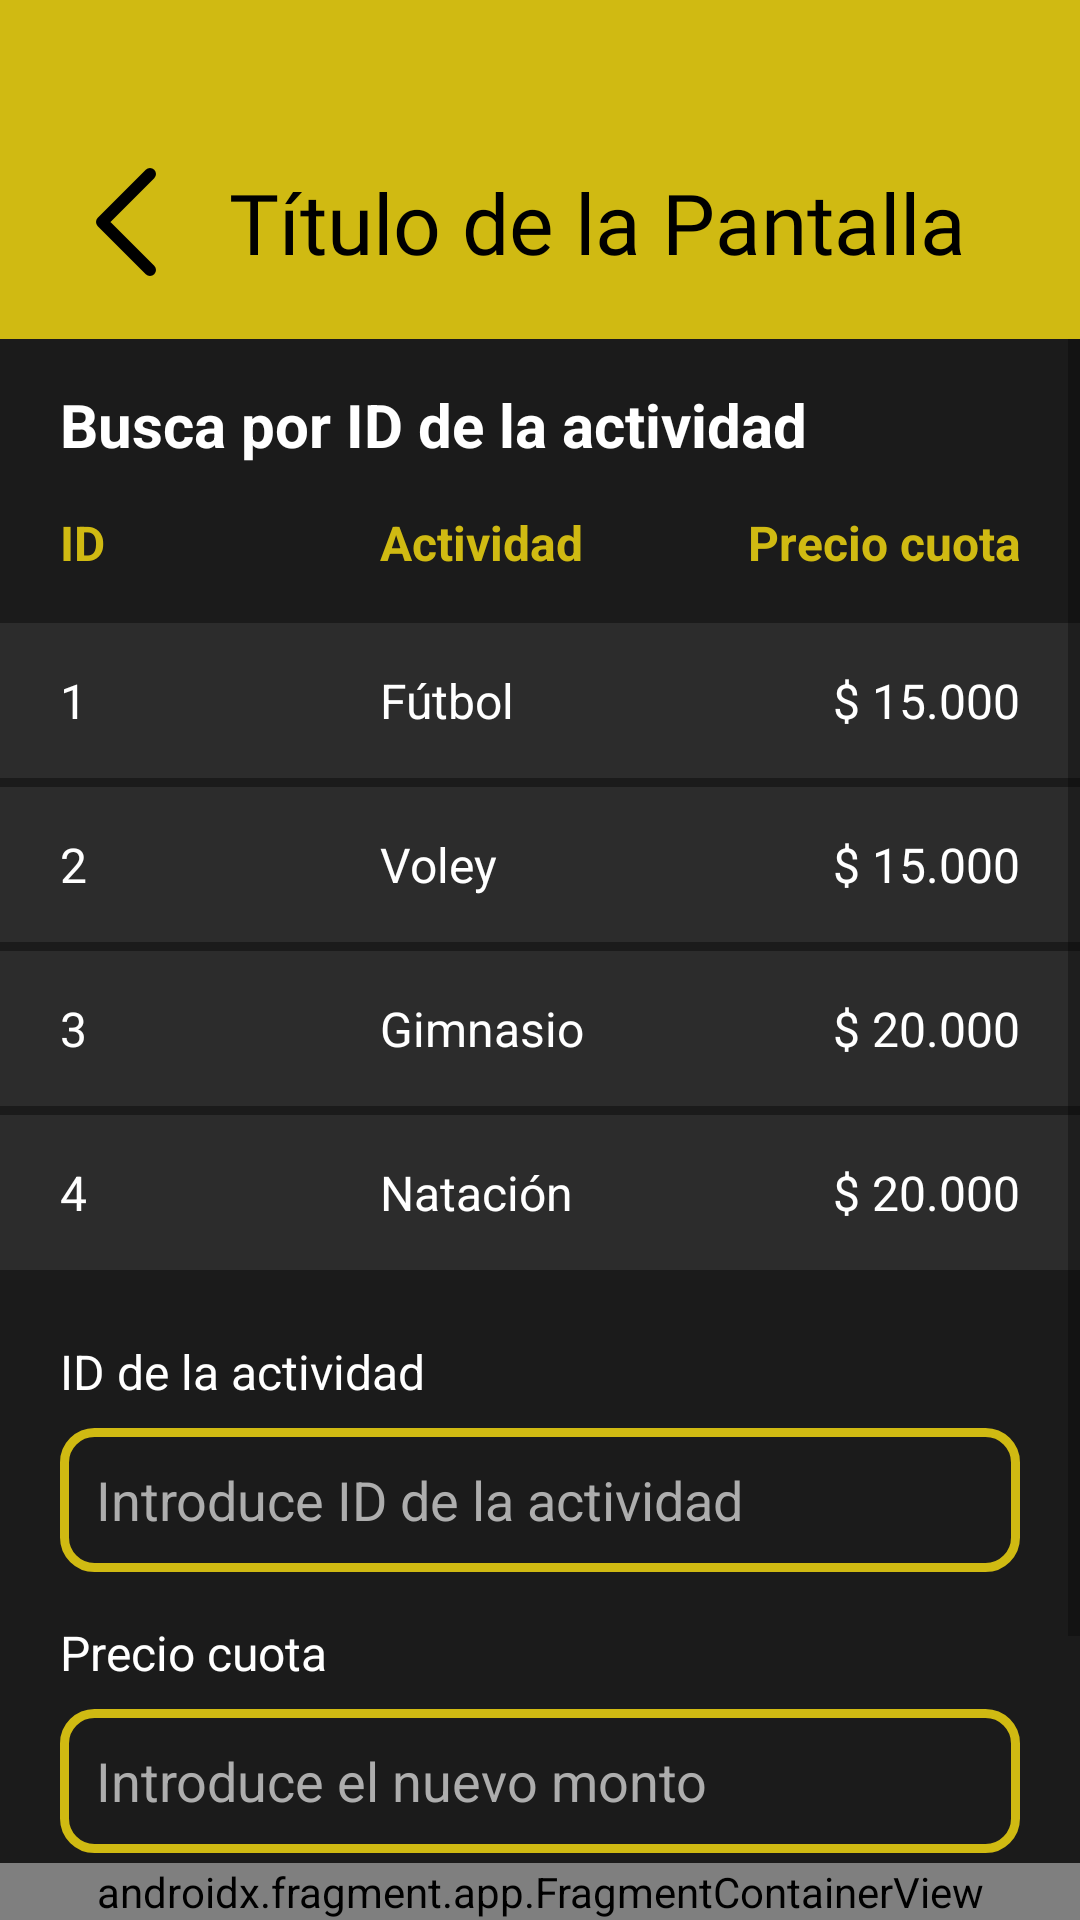

Where to tap for icons on this 1080px×1920px app screen, as (x,y):
atras: (126,222)
